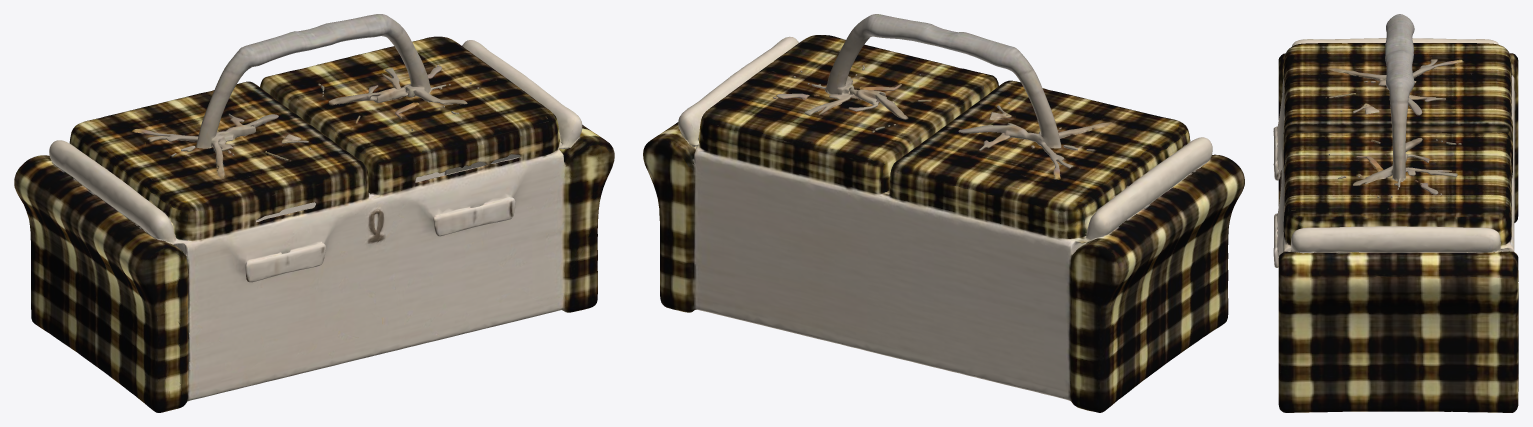
The model's file is plaid_3.glb.
3 renders of one model, left to right at view 1: azimuth 30°, elevation 25°; view 2: azimuth 150°, elevation 25°; view 3: azimuth 270°, elevation 25°, orthographic. The views are drawn at different scales.
Visible parts, largest first — view 1: geometry_0; view 2: geometry_0; view 3: geometry_0.
Part boxes in pixels (box(x1,y1,x2,y2)): geometry_0: box(14, 14, 614, 412); geometry_0: box(643, 14, 1244, 412); geometry_0: box(1273, 14, 1518, 412).
Size of the model in its own units: 1 by 0.5732 by 0.4716.
1 material, 1 textured.
